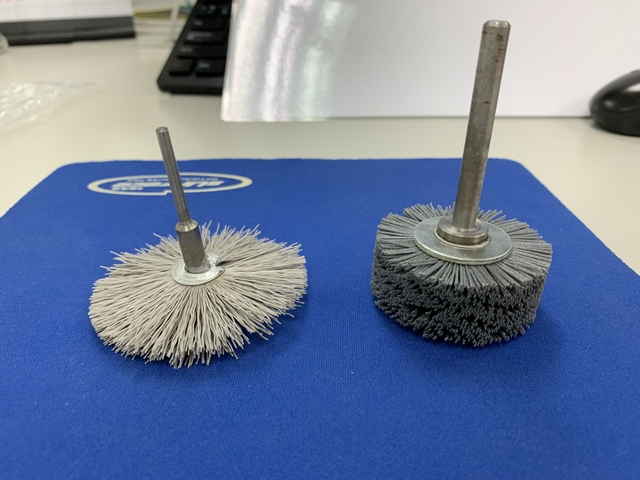TOOL: (80, 126, 316, 368), (75, 125, 316, 313), (130, 125, 313, 368), (78, 126, 239, 364)
Wheel Brush: (369, 10, 554, 349), (369, 9, 516, 348), (405, 9, 551, 350)
